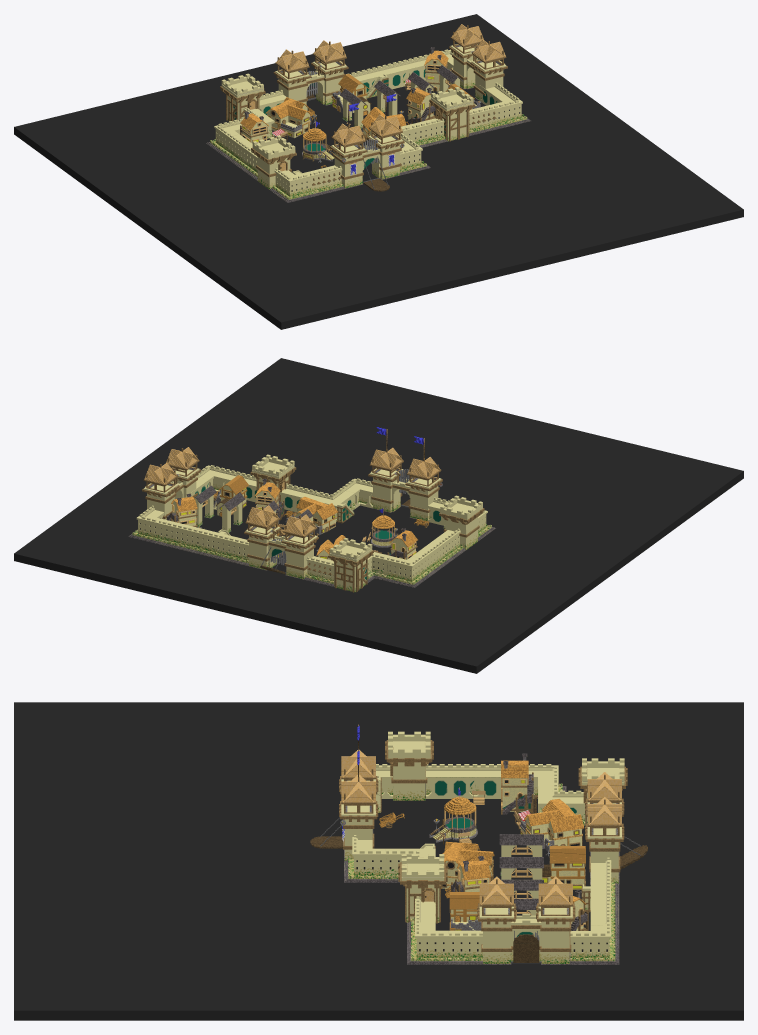
Rendered from Medieval_Voxel_Assets_Example.obj.
3 views of the same model, one above another, from view 1: azimuth 30°, elevation 25°; view 2: azimuth 150°, elevation 25°; view 3: azimuth 270°, elevation 25° (orthographic). The views are drawn at different scales.
Visible parts, largest first — view 1: Complete_Example_Medieval_Assets-0.004; view 2: Complete_Example_Medieval_Assets-0.004; view 3: Complete_Example_Medieval_Assets-0.004.
Boxes of the visible parts, x1,y1,x2,y2 form: Complete_Example_Medieval_Assets-0.004: [14, 14, 743, 329]; Complete_Example_Medieval_Assets-0.004: [14, 358, 743, 673]; Complete_Example_Medieval_Assets-0.004: [14, 702, 743, 1020].
Bounding box in the file's own units: 89.2 × 15.72 × 89.2.
31 materials, 30 textured.
